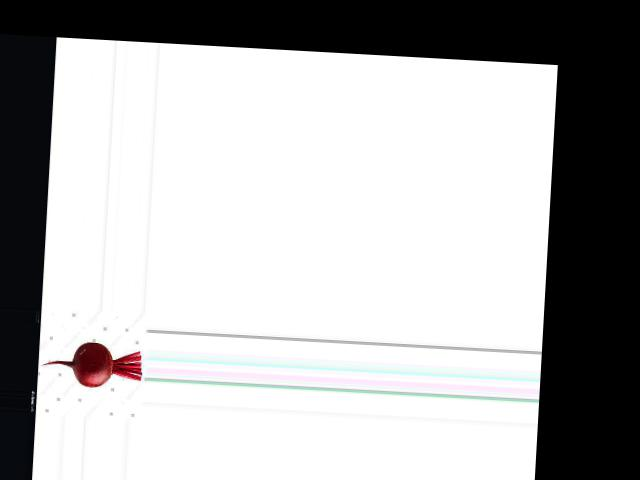beet: (40, 339, 143, 389)
